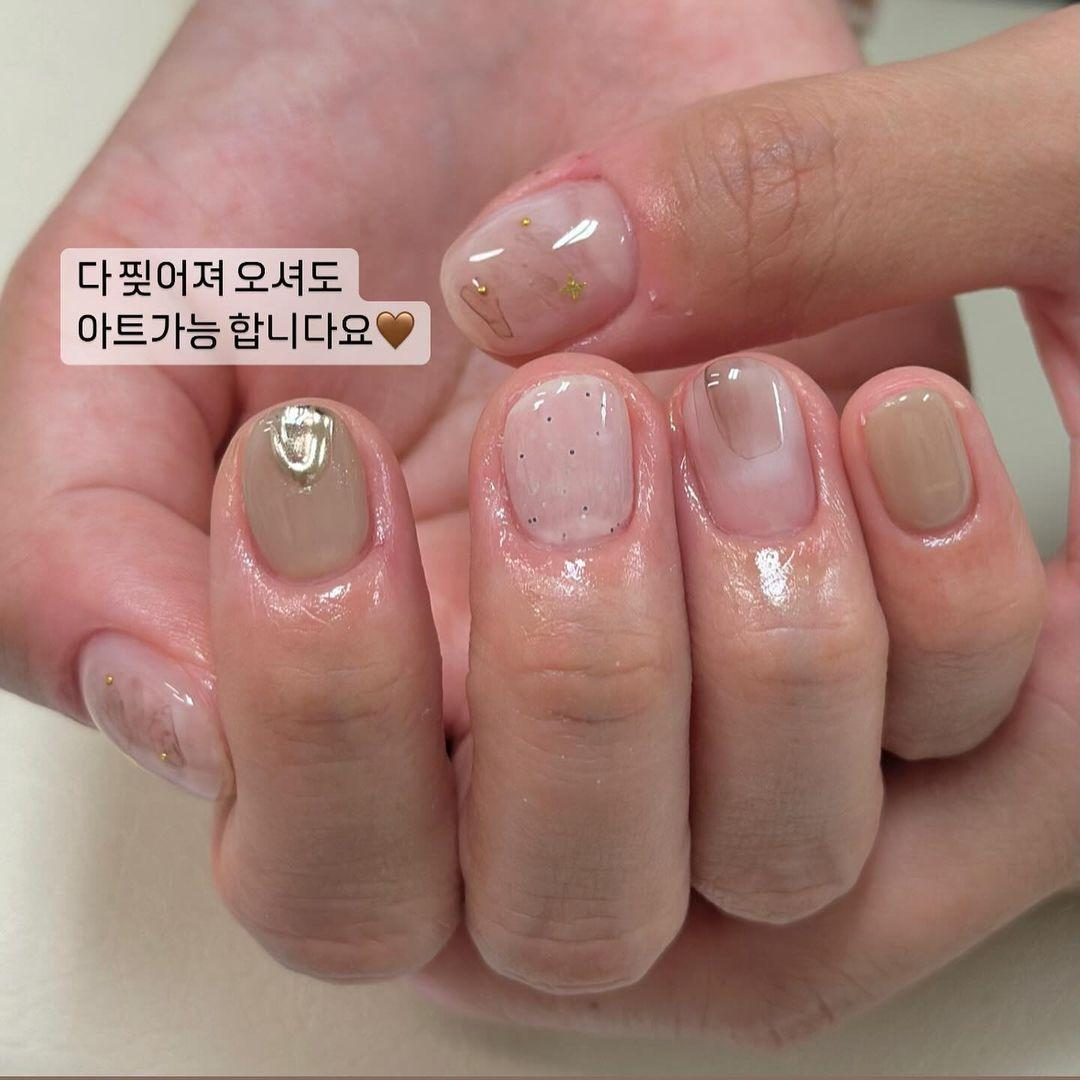nail: (457, 350, 693, 996), (666, 348, 890, 926), (837, 363, 1047, 761), (438, 172, 640, 360), (74, 626, 229, 801), (677, 352, 818, 538), (237, 399, 373, 581), (498, 372, 636, 547), (861, 385, 976, 535)
